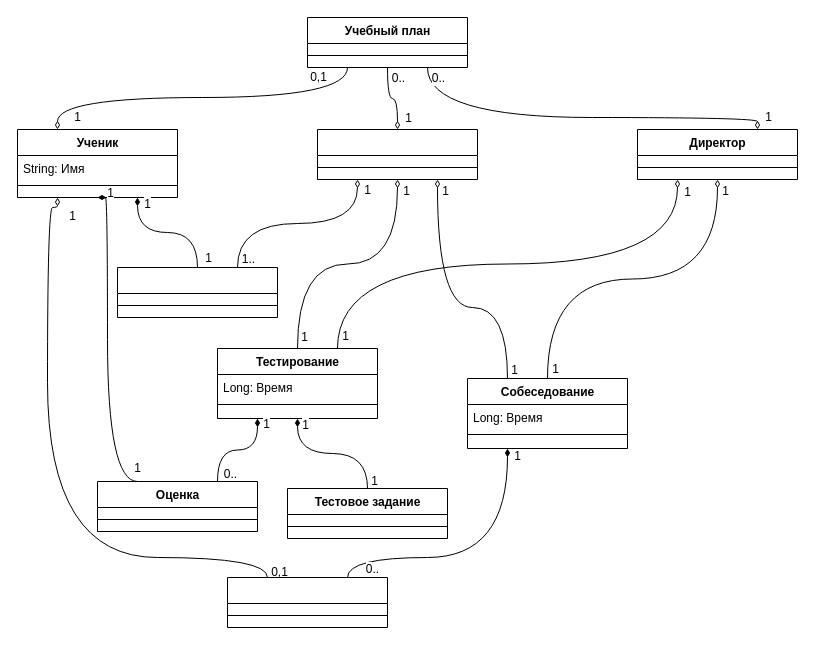
This 815x645 diagram has some shape labels left out. Here are the shapes that lost their labels. From the top down, the centre of each, then its label:
At point 397,154: "Завуч".
At point 197,292: "Заявление".
At point 307,602: "Предпочтения".
